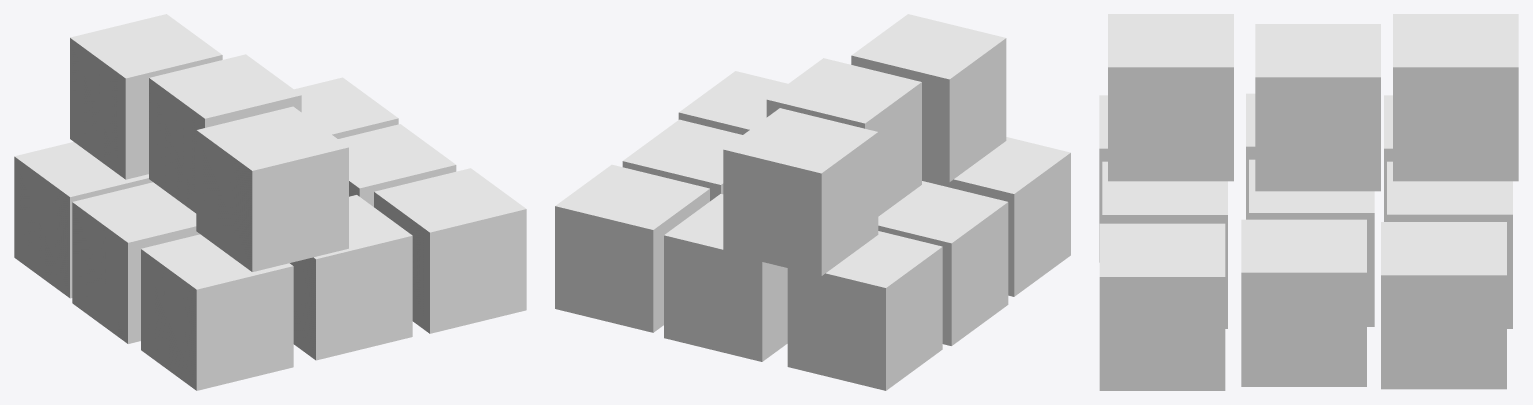
The model's file is box-stack-large.glb.
The picture shows the model from 3 angles, left to right: view 1: azimuth 30°, elevation 25°; view 2: azimuth 150°, elevation 25°; view 3: azimuth 270°, elevation 25°; orthographic projection. The views are drawn at different scales.
Parts seen in each view (by area): view 1: Big Boxes.004; view 2: Big Boxes.004; view 3: Big Boxes.004.
Part boxes in pixels (<box>): Big Boxes.004: <box>14,14,526,390</box>; Big Boxes.004: <box>555,14,1070,390</box>; Big Boxes.004: <box>1099,14,1518,390</box>.
Bounding box in the file's own units: 3.45 × 2 × 3.33.
1 material, 1 textured.
